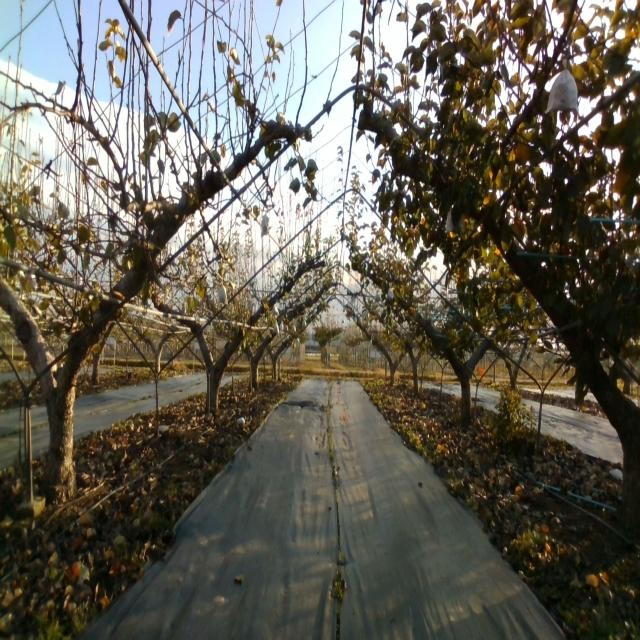pearbags: (544, 59, 580, 118), (216, 281, 228, 306)
